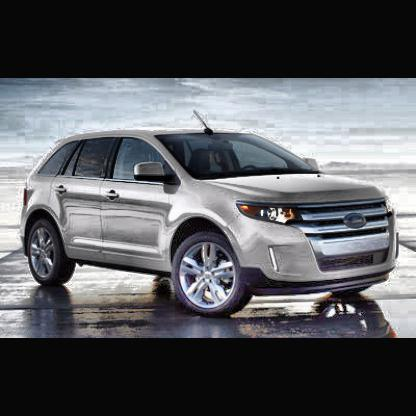Ford Edge SUV 2012: (23, 111, 398, 315)
